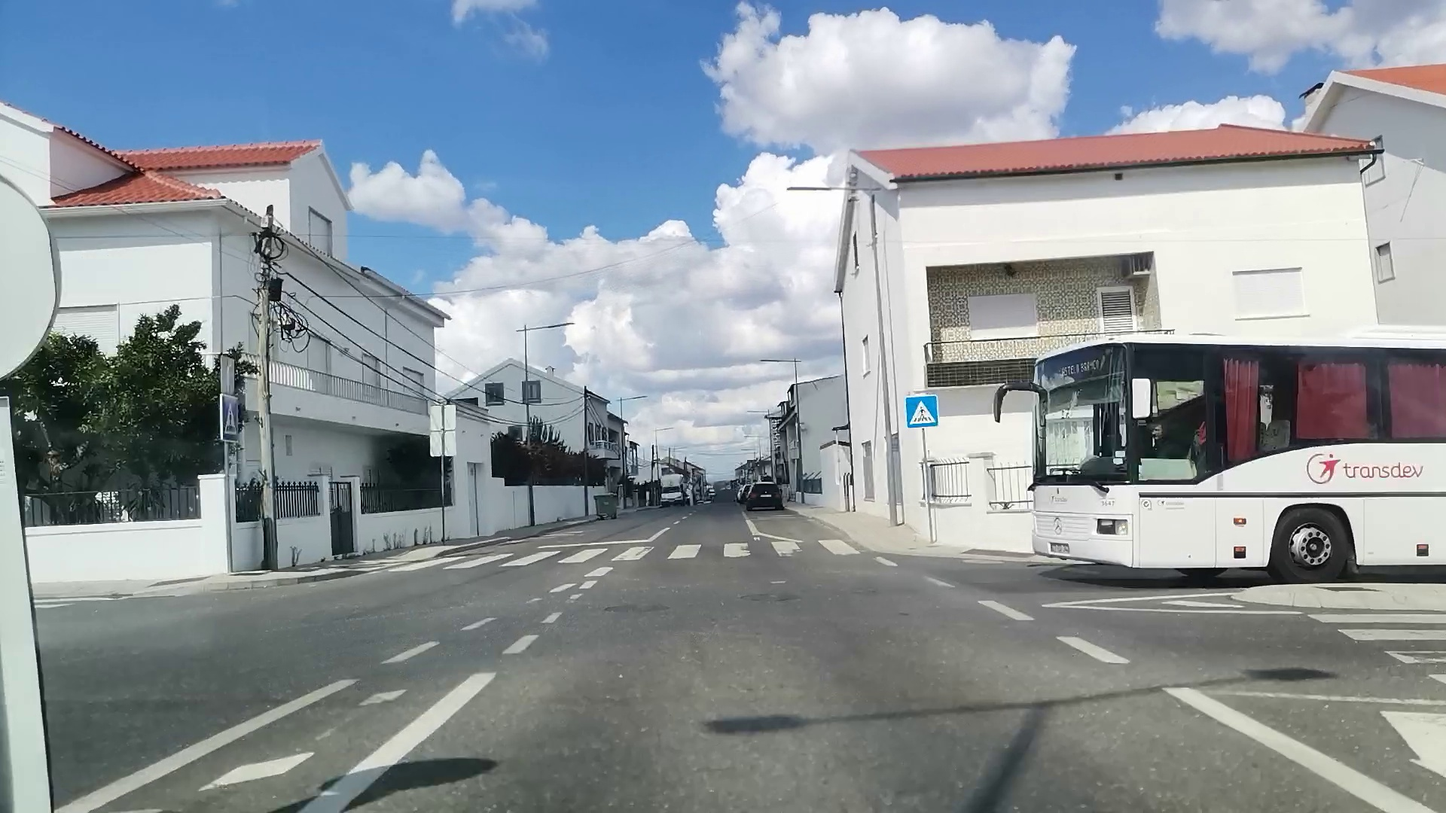Stairs: (390, 536, 870, 572)
